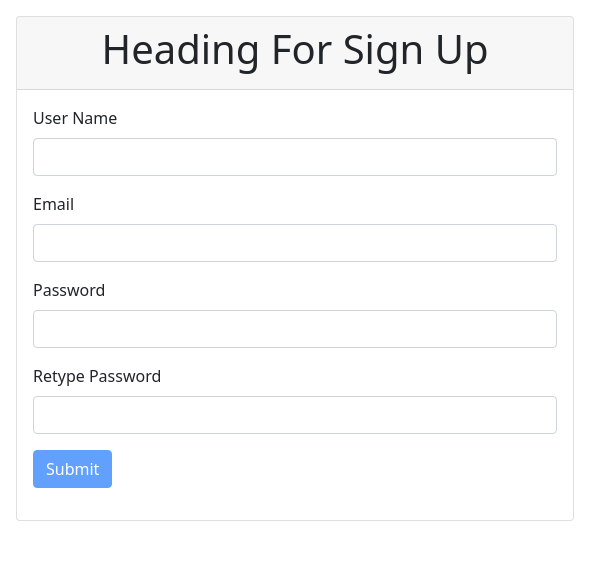
sign up page › interaction › clear validations error after username field is updated
The width and height of the screenshot is (591, 563).
Type "mostafa" into the field labelled "User Name" at (295, 157), box [33,138,557,176]
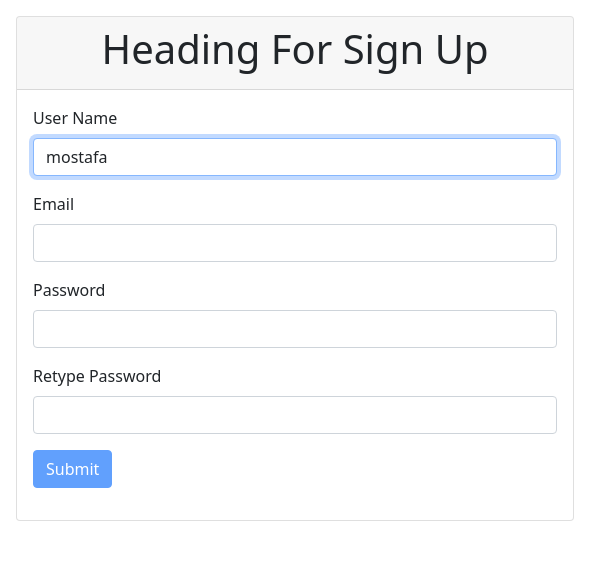
Type "mostafa@hotmail.com" into the field labelled "Email" at (295, 243), box [33,224,557,262]
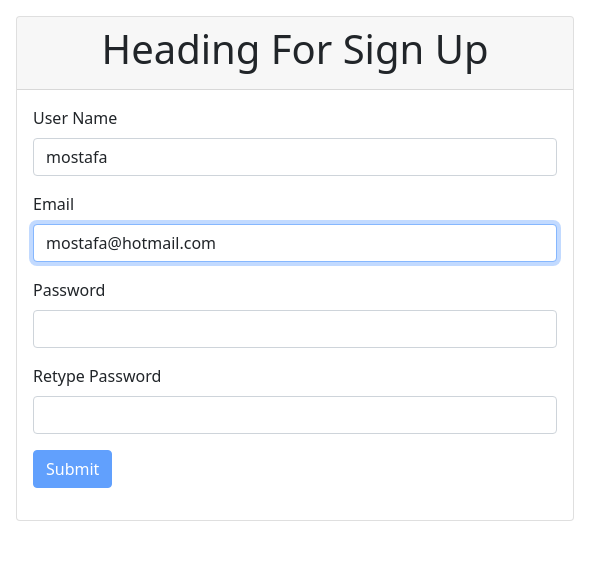
Type "passw8rd" into the password field labelled "Password" at (295, 329), box [33,310,557,348]
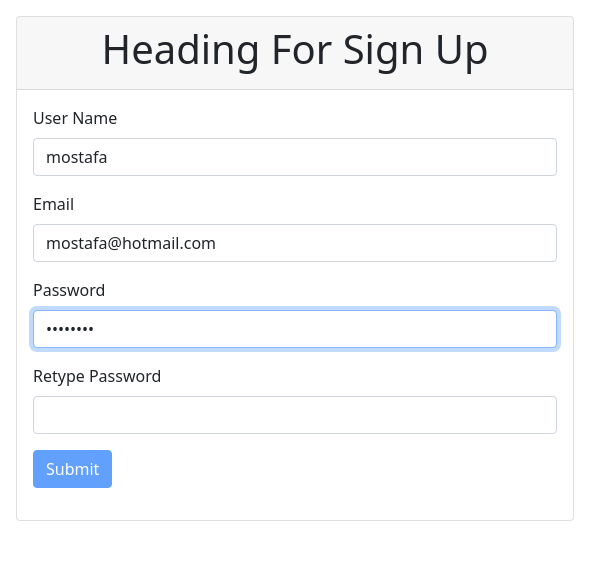
Type "passw8rd" into the password field labelled "Retype Password" at (295, 415), box [33,396,557,434]
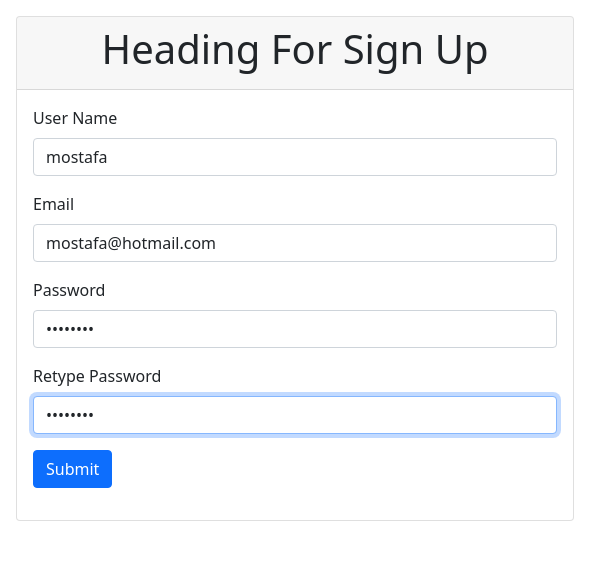
Click the button "Submit" at (73, 469), box [33,450,112,488]
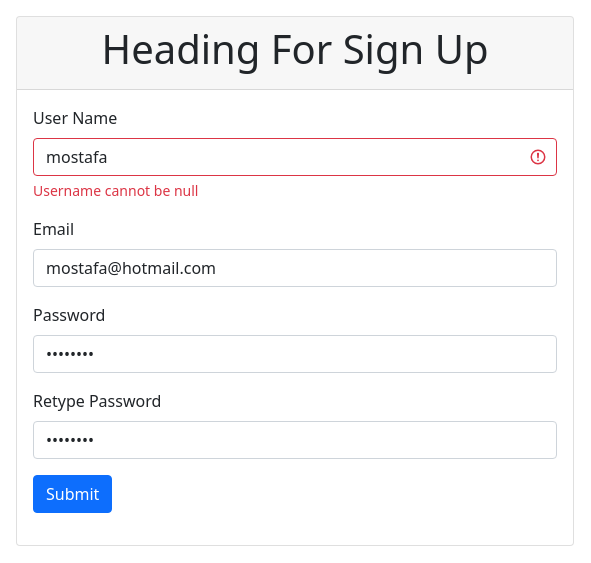
Result: the text "Username cannot be null" is shown at [33,181,198,200]
Type "updated" into the field labelled "User Name" at (295, 157), box [33,138,557,176]
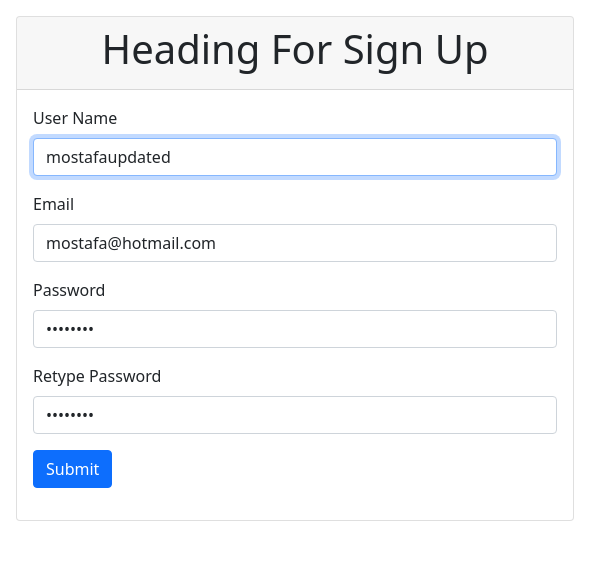
Result: the text "Username cannot be null" is gone
